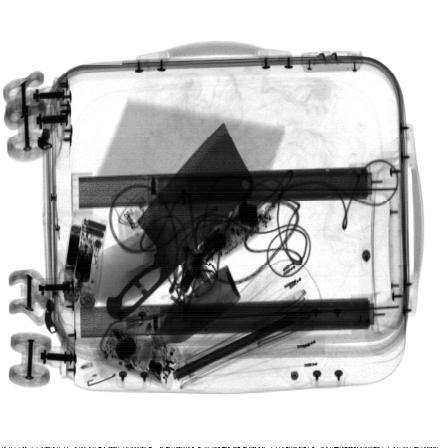Knife: (106, 121, 255, 321)
